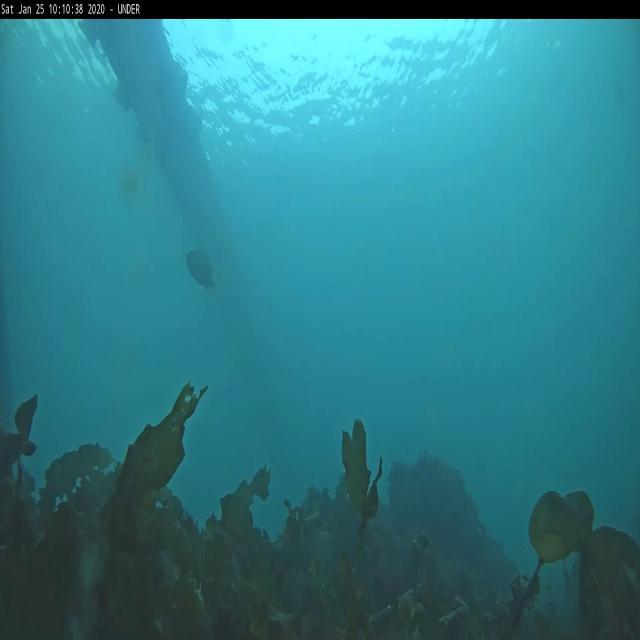fish: (185, 250, 218, 296)
